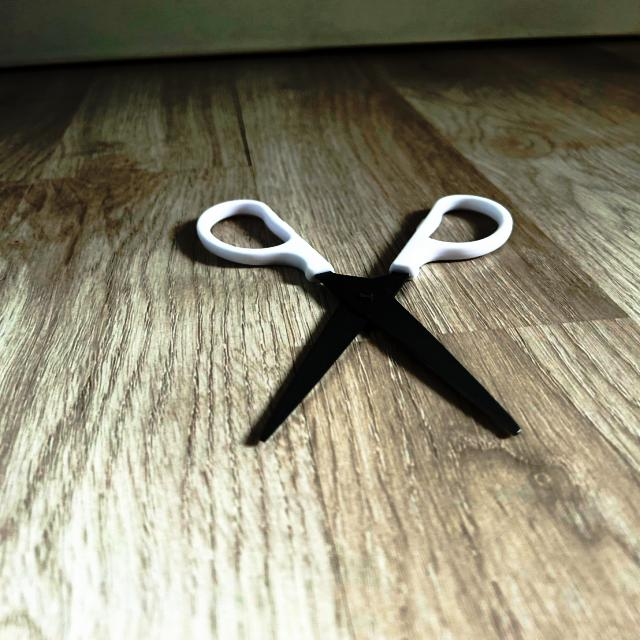Scissors: (197, 195, 519, 441)
